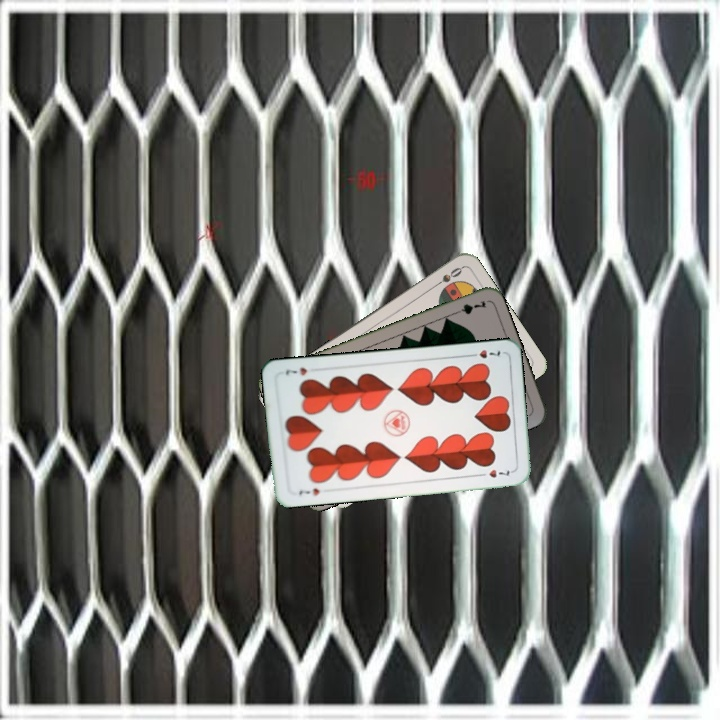G7: (448, 296, 489, 317)
H7: (464, 345, 503, 361), (294, 484, 322, 498)
SO: (429, 263, 465, 291)
